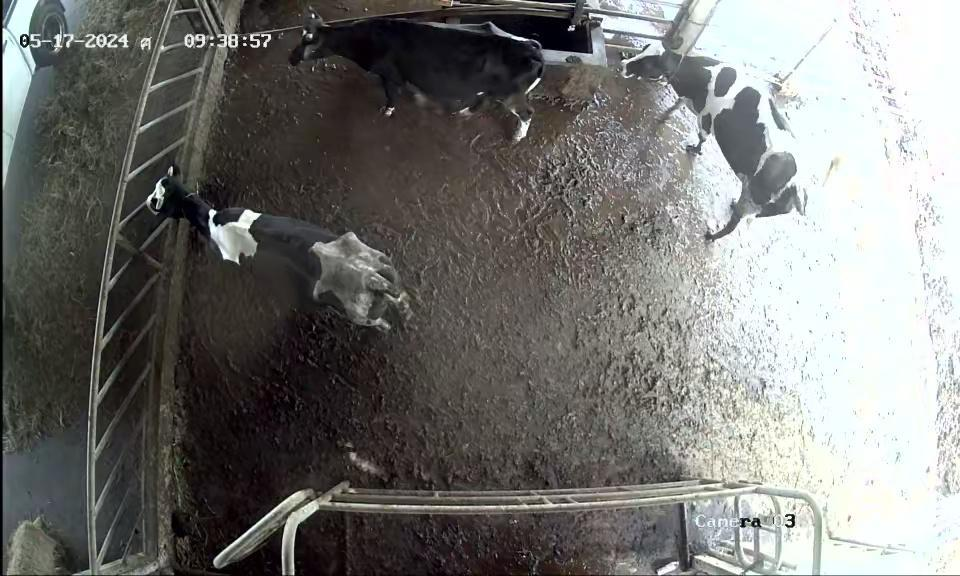stand: (142, 167, 428, 344), (623, 20, 820, 266), (285, 0, 566, 152)
